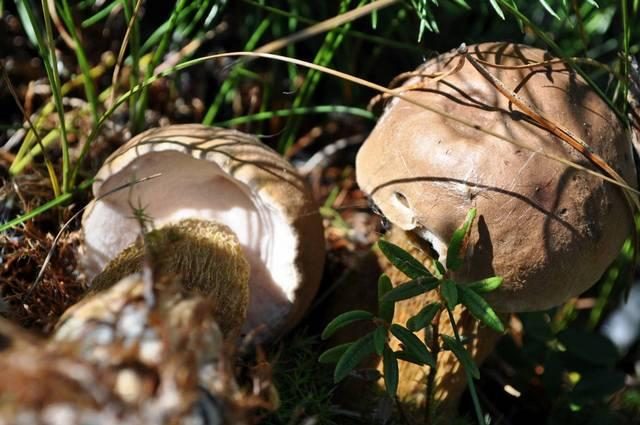Non-edible Mushroom: (353, 39, 638, 314), (73, 121, 326, 355)
